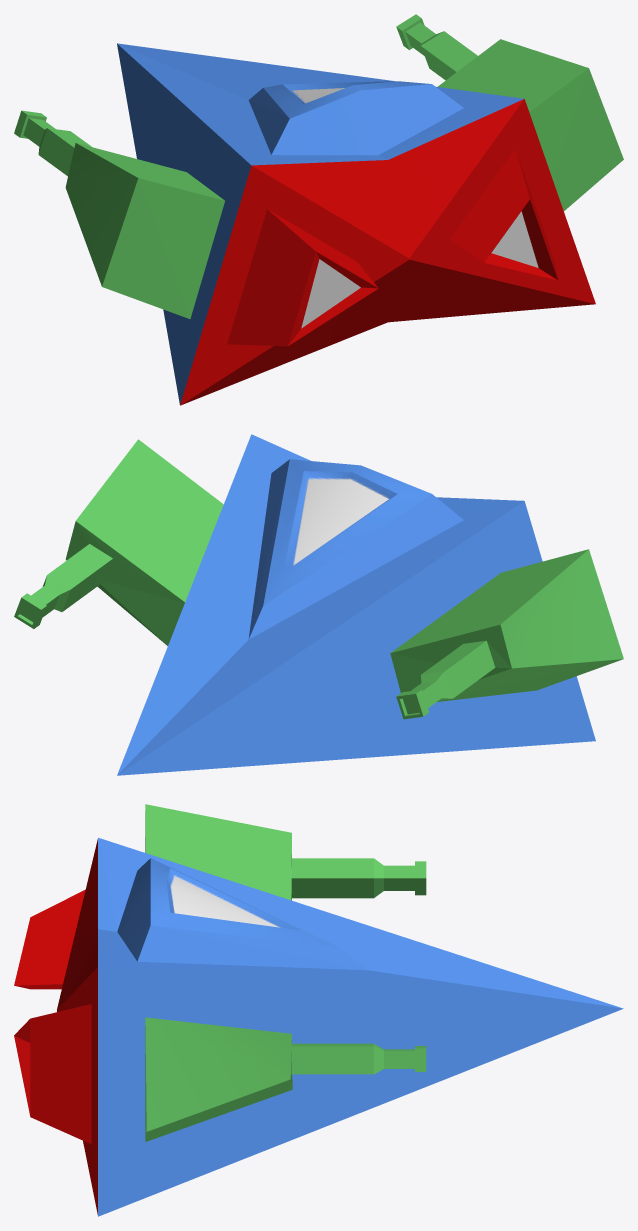
File: Ship.fbx
3 views of the same model, one above another, from view 1: azimuth 30°, elevation 25°; view 2: azimuth 150°, elevation 25°; view 3: azimuth 270°, elevation 25° (orthographic). The views are drawn at different scales.
Visible parts, largest first — view 1: The_Inquisable; view 2: The_Inquisable; view 3: The_Inquisable.
Boxes of the visible parts, bbox=[...] form: The_Inquisable: bbox=[14, 14, 623, 405]; The_Inquisable: bbox=[14, 434, 623, 775]; The_Inquisable: bbox=[14, 804, 623, 1216].
Bounding box in the file's own units: 682 × 306 × 712.
Materials: 2 (1 with a texture image).
